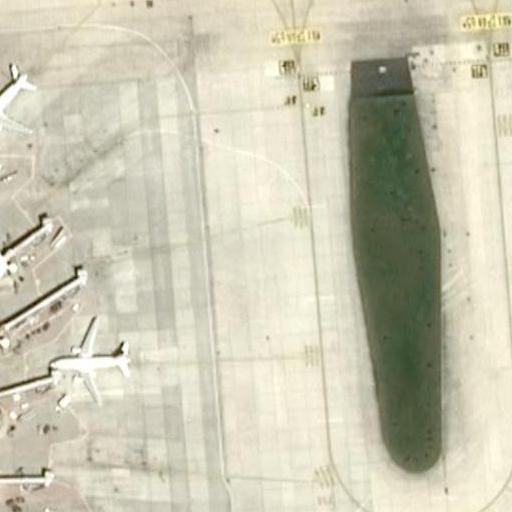Aircraft: (44, 311, 132, 405), (0, 60, 32, 140)
